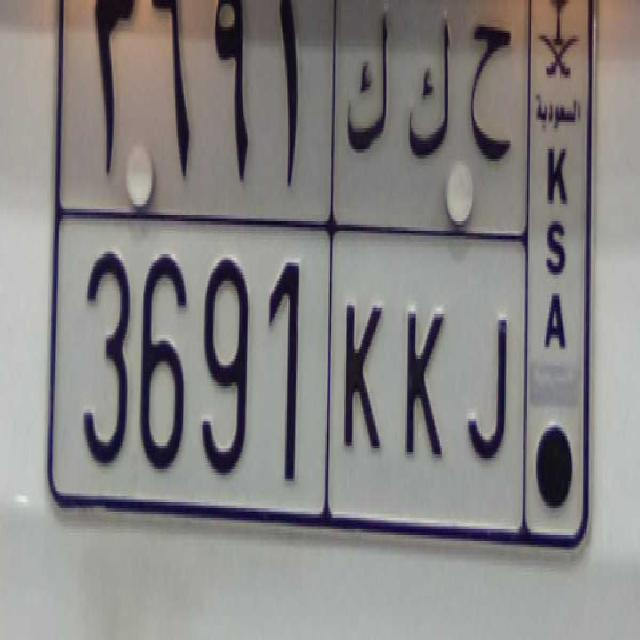license_plate: (73, 204, 516, 546)
